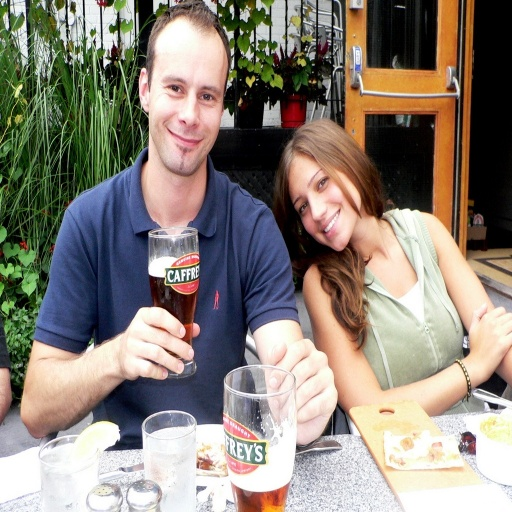hand: (266, 336, 338, 446), (117, 305, 200, 382), (467, 300, 511, 377)
